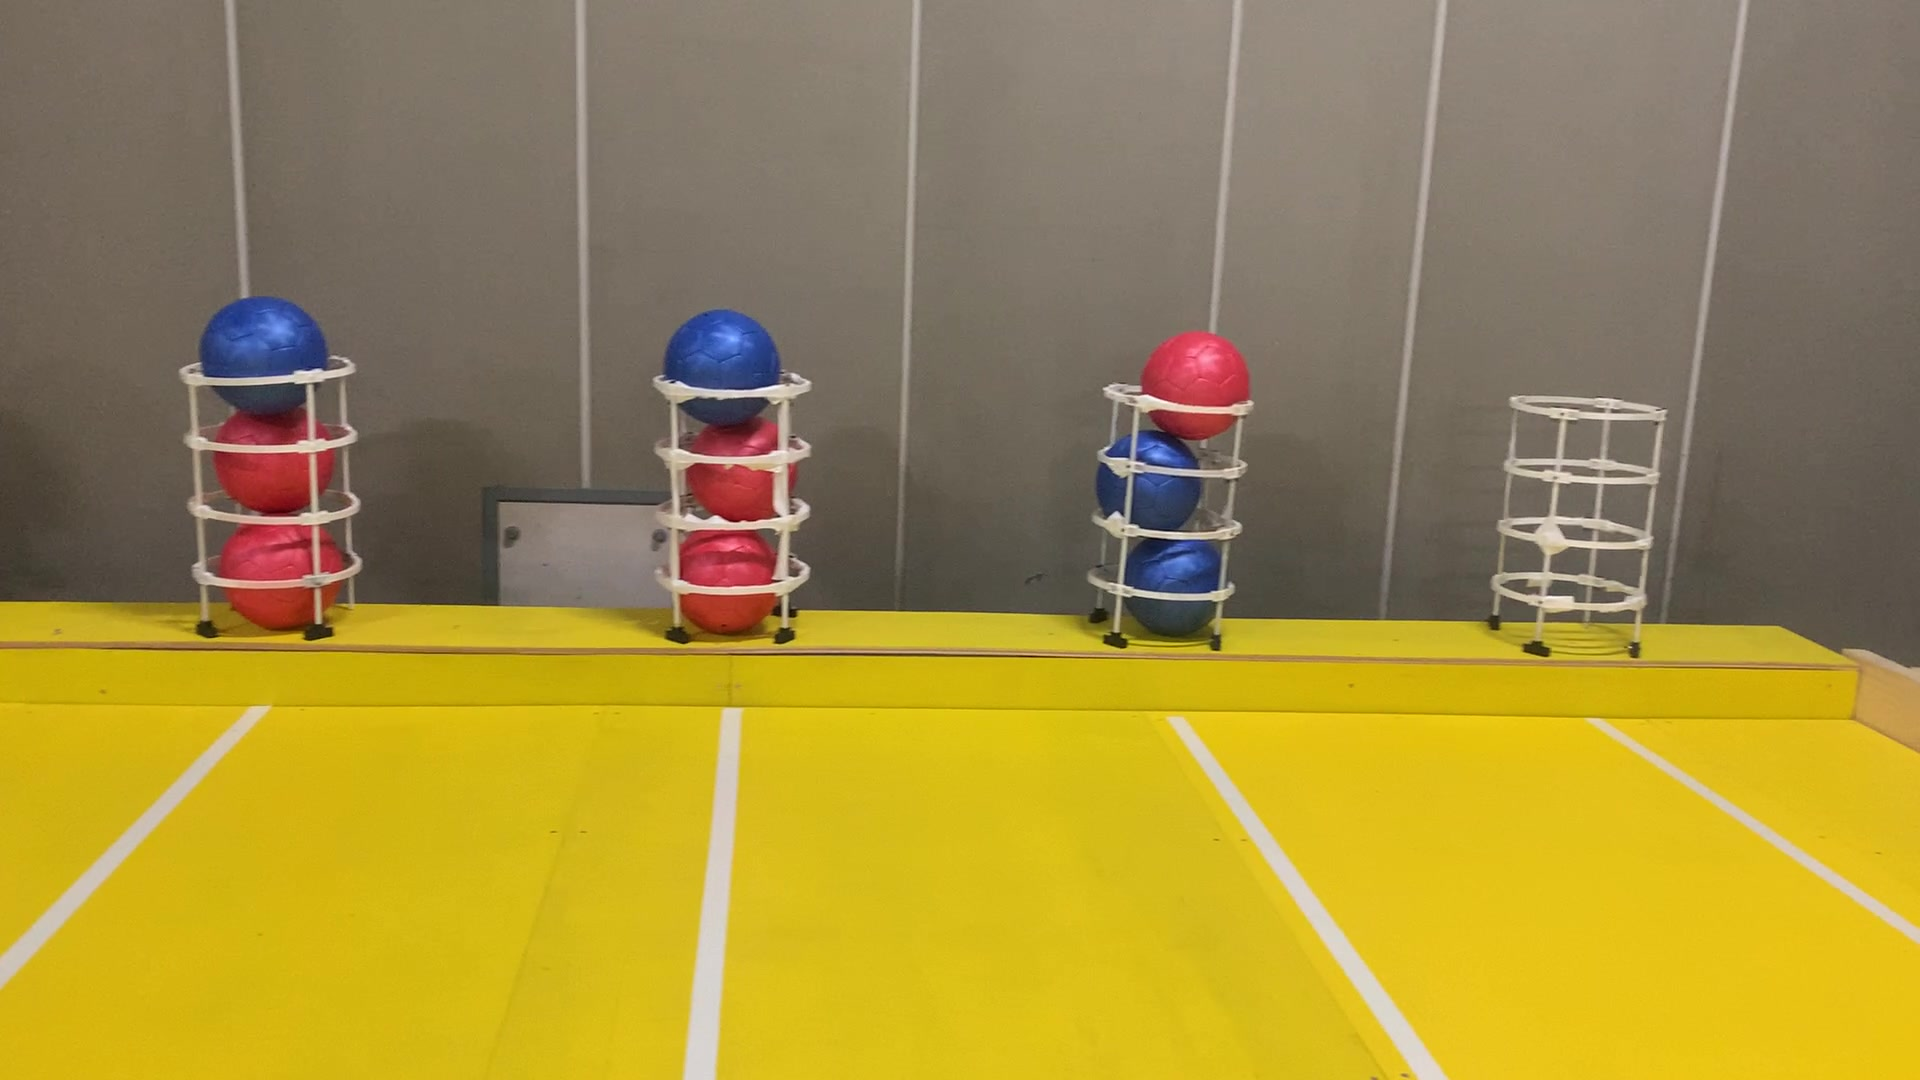blue: (189, 286, 335, 421), (655, 305, 787, 426), (1113, 518, 1224, 646), (1089, 426, 1204, 530)
red: (211, 508, 355, 640), (207, 389, 343, 517), (653, 514, 790, 634), (671, 407, 799, 524), (1135, 326, 1254, 442)
